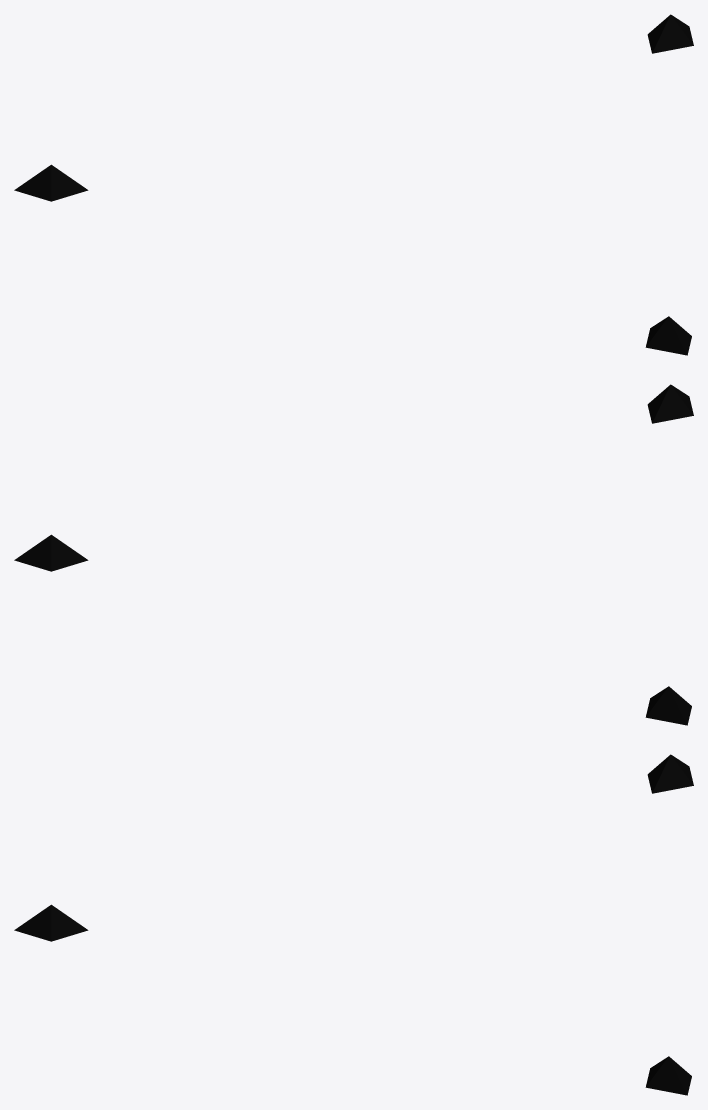
File: TX_DLD_wuti19_shuijing003.FBX
The picture shows the model from 3 angles, top to bottom: view 1: azimuth 30°, elevation 25°; view 2: azimuth 150°, elevation 25°; view 3: azimuth 270°, elevation 25°; orthographic projection.
Visible parts, largest first — view 1: TX_DLD_wuti19_shuijing003; view 2: TX_DLD_wuti19_shuijing003; view 3: TX_DLD_wuti19_shuijing003.
Part boxes in pixels (bbox=[...]): TX_DLD_wuti19_shuijing003: bbox=[14, 14, 693, 355]; TX_DLD_wuti19_shuijing003: bbox=[14, 384, 693, 725]; TX_DLD_wuti19_shuijing003: bbox=[14, 754, 693, 1095].
Bounding box in the file's own units: 597 × 21.79 × 521.
